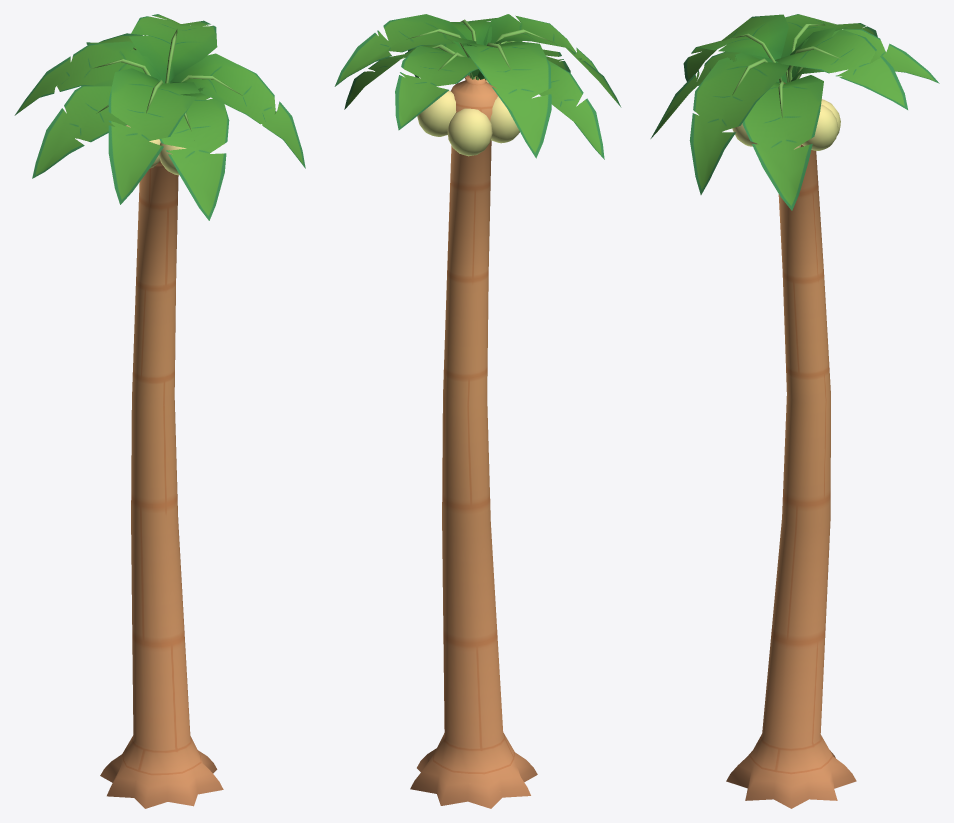
Rendered from LongPalmtree.fbx.
3 renders of one model, left to right at view 1: azimuth 30°, elevation 25°; view 2: azimuth 150°, elevation 25°; view 3: azimuth 270°, elevation 25°, orthographic. The views are drawn at different scales.
Visible parts, largest first — view 1: longPalmtree; view 2: longPalmtree; view 3: longPalmtree.
Boxes of the visible parts, left/top/right/bottom form: longPalmtree: left=14, top=14, right=305, bottom=808; longPalmtree: left=334, top=14, right=621, bottom=808; longPalmtree: left=650, top=14, right=939, bottom=808.
Bounding box in the file's own units: 3.82 × 10.61 × 3.71.
Materials: 1 (1 with a texture image).
